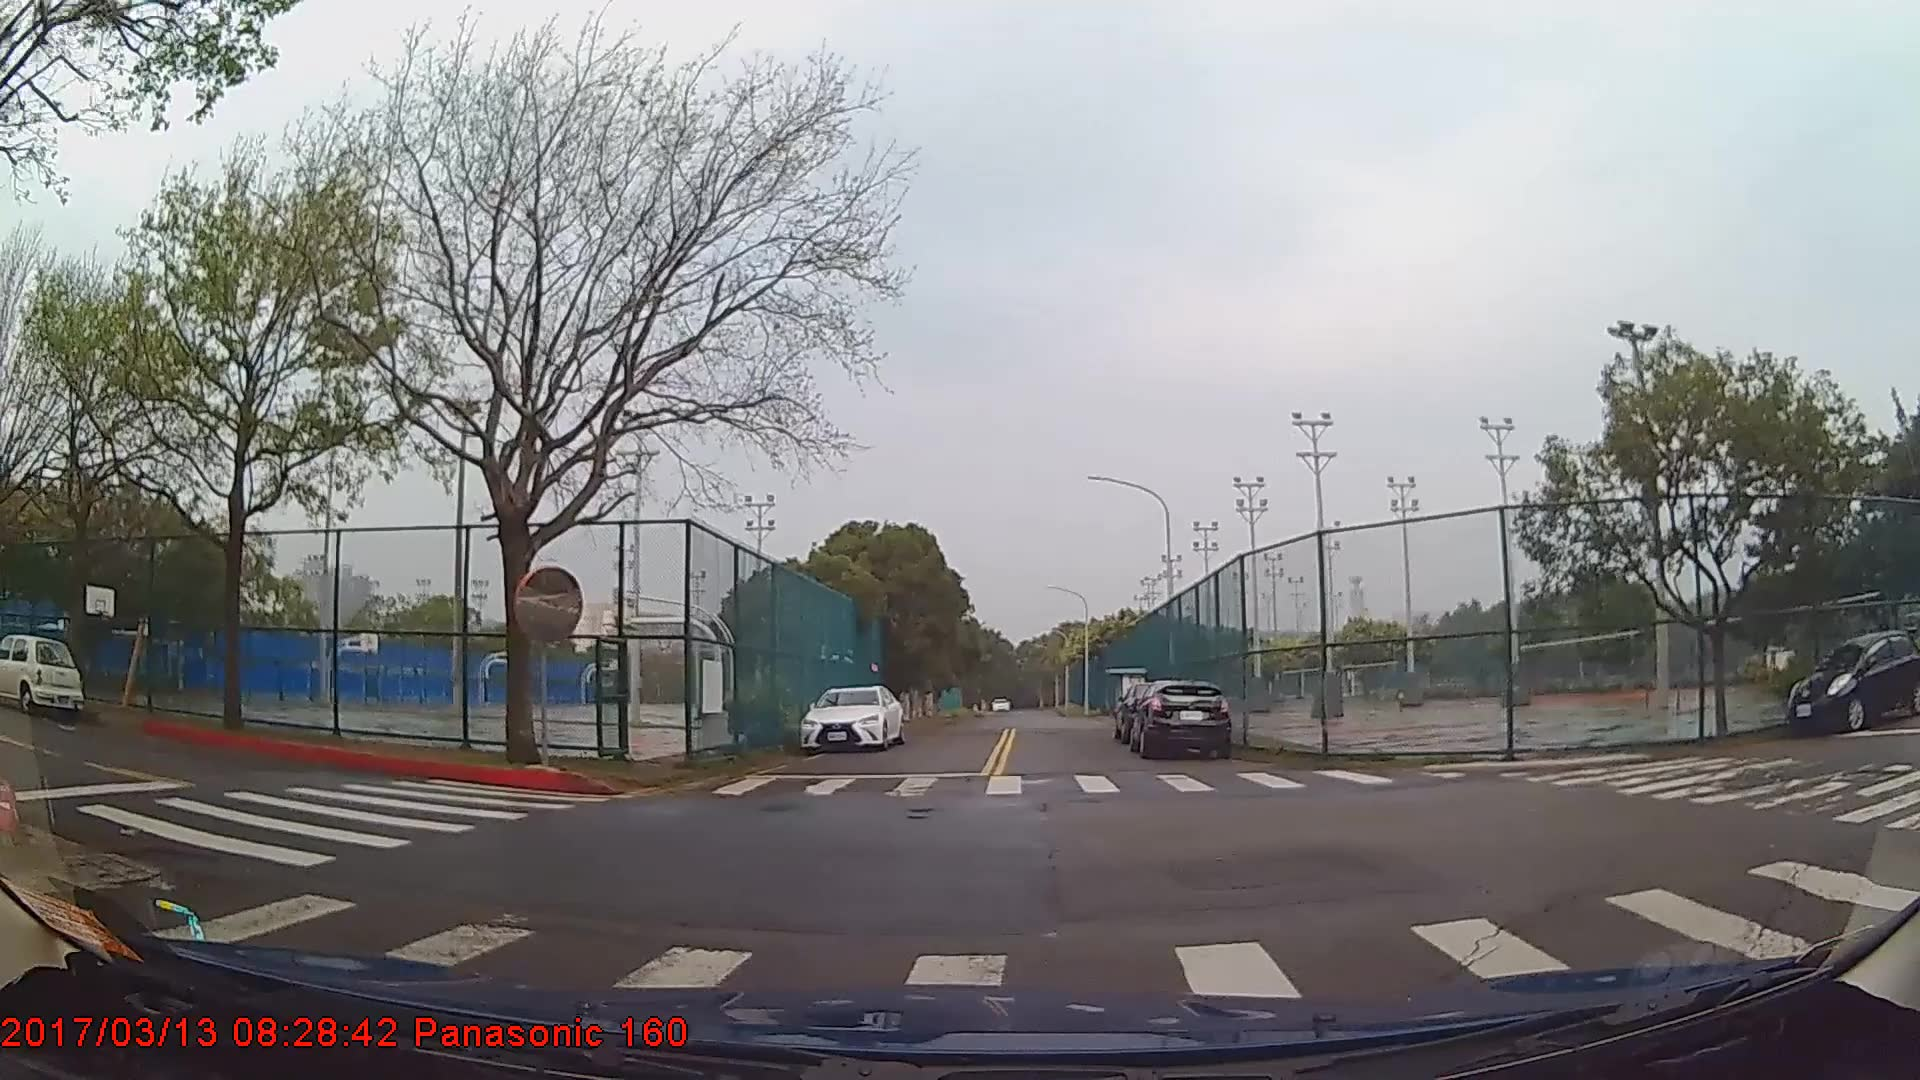vehicle: (1787, 622, 1920, 735), (1131, 680, 1234, 762), (0, 632, 87, 717), (800, 684, 905, 756)
